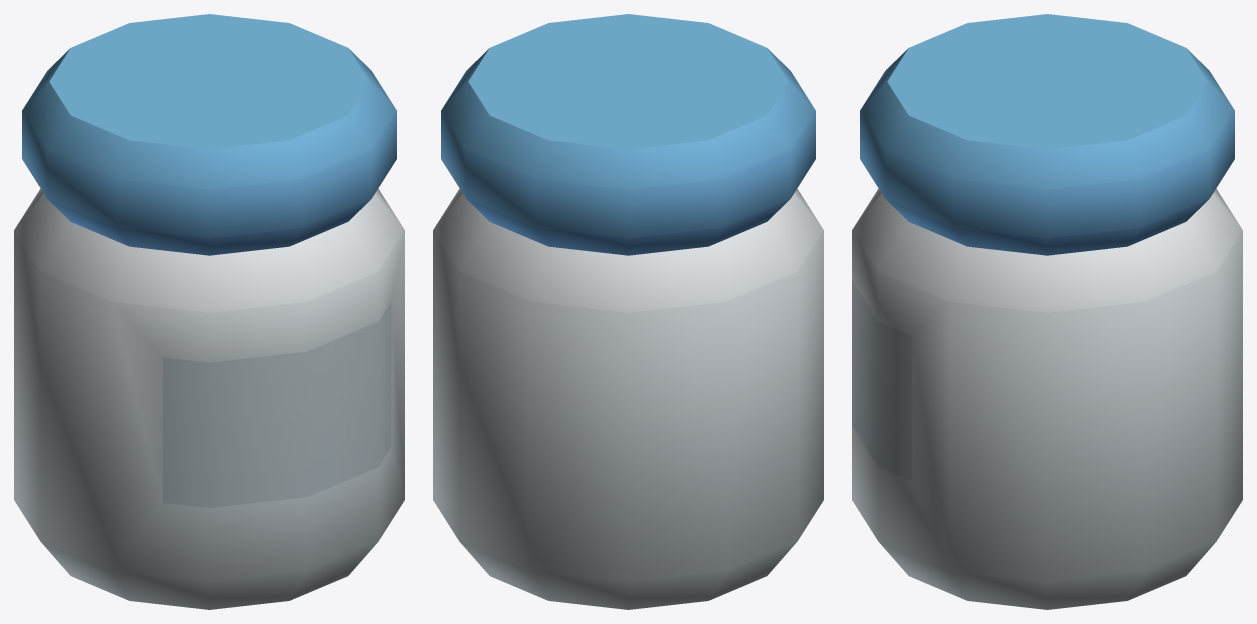
File: kay-jar_a_medium.glb
3 renders of one model, left to right at view 1: azimuth 30°, elevation 25°; view 2: azimuth 150°, elevation 25°; view 3: azimuth 270°, elevation 25°, orthographic.
Visible parts, largest first — view 1: jar_A_medium; view 2: jar_A_medium; view 3: jar_A_medium.
Boxes of the visible parts, x1,y1,x2,y2 form: jar_A_medium: (14,14,404,609); jar_A_medium: (433,14,823,609); jar_A_medium: (852,14,1242,609).
Bounding box in the file's own units: 0.1692 × 0.22 × 0.1692.
Materials: 1 (1 with a texture image).
